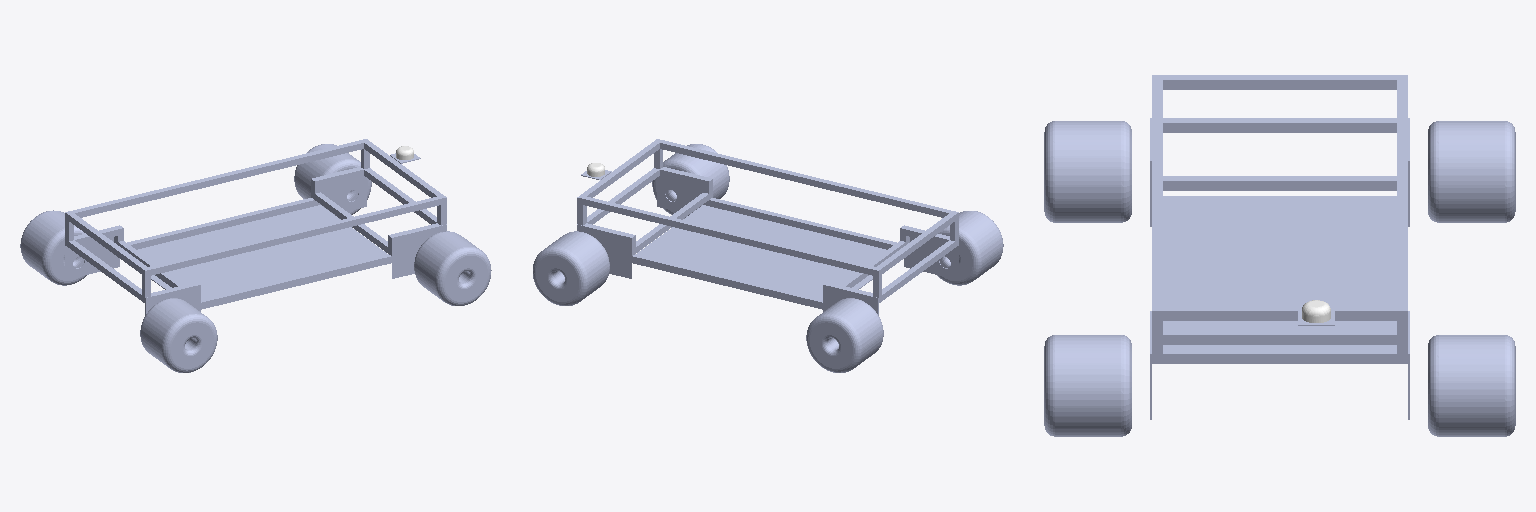
robot.urdf — ca:
<?xml version="1.0" encoding="utf-8"?>
<robot
  name="ca">
  <link
    name="base_link">
    <inertial>
      <origin
        xyz="0.0023443 0.00028765 0.10232"
        rpy="0 0 0" />
      <mass
        value="60" />
      <inertia
        ixx="1.1836"
        ixy="-4.6065E-15"
        ixz="-2.9443E-15"
        iyy="3.6753"
        iyz="1.0467E-16"
        izz="4.5993" />
    </inertial>
    <visual>
      <origin
        xyz="0 0 0"
        rpy="0 0 0" />
      <geometry>
        <mesh
          filename="package://ca/meshes/base_link.STL" />
      </geometry>
      <material
        name="">
        <color
          rgba="0.79216 0.81961 0.93333 1" />
      </material>
    </visual>
    <collision>
      <origin
        xyz="0 0 0"
        rpy="0 0 0" />
      <geometry>
        <mesh
          filename="package://ca/meshes/base_link.STL" />
      </geometry>
    </collision>
  </link>
  <link
    name="wheel1">
    <inertial>
      <origin
        xyz="0 0.12 0"
        rpy="0 0 0" />
      <mass
        value="5" />
      <inertia
        ixx="0.13237"
        ixy="1.7347E-18"
        ixz="-1.9437E-36"
        iyy="0.13869"
        iyz="2.808E-34"
        izz="0.13237" />
    </inertial>
    <visual>
      <origin
        xyz="0 0 0"
        rpy="0 0 0" />
      <geometry>
        <mesh
          filename="package://ca/meshes/wheel1.STL" />
      </geometry>
      <material
        name="">
        <color
          rgba="0.79216 0.81961 0.93333 1" />
      </material>
    </visual>
    <collision>
      <origin
        xyz="0 0 0"
        rpy="0 0 0" />
      <geometry>
        <mesh
          filename="package://ca/meshes/wheel1.STL" />
      </geometry>
    </collision>
  </link>
  <joint
    name="wheel1j"
    type="continuous">
    <origin
      xyz="0.695 0.4065 -0.006"
      rpy="0 0 0" />
    <parent
      link="base_link" />
    <child
      link="wheel1" />
    <axis
      xyz="0 -1 0" />
  </joint>
  <link
    name="wheel2">
    <inertial>
      <origin
        xyz="0 -0.12 0"
        rpy="0 0 0" />
      <mass
        value="5" />
      <inertia
        ixx="0.13237"
        ixy="3.4868E-18"
        ixz="-9.1067E-19"
        iyy="0.13869"
        iyz="4.9054E-19"
        izz="0.13237" />
    </inertial>
    <visual>
      <origin
        xyz="0 0 0"
        rpy="0 0 0" />
      <geometry>
        <mesh
          filename="package://ca/meshes/wheel2.STL" />
      </geometry>
      <material
        name="">
        <color
          rgba="0.79216 0.81961 0.93333 1" />
      </material>
    </visual>
    <collision>
      <origin
        xyz="0 0 0"
        rpy="0 0 0" />
      <geometry>
        <mesh
          filename="package://ca/meshes/wheel2.STL" />
      </geometry>
    </collision>
  </link>
  <joint
    name="wheel2j"
    type="continuous">
    <origin
      xyz="0.695 -0.4065 -0.006"
      rpy="0 0 0" />
    <parent
      link="base_link" />
    <child
      link="wheel2" />
    <axis
      xyz="0 -1 0" />
  </joint>
  <link
    name="wheel3">
    <inertial>
      <origin
        xyz="0 0.12 0"
        rpy="0 0 0" />
      <mass
        value="5" />
      <inertia
        ixx="0.13237"
        ixy="1.7347E-18"
        ixz="-1.9437E-36"
        iyy="0.13869"
        iyz="2.808E-34"
        izz="0.13237" />
    </inertial>
    <visual>
      <origin
        xyz="0 0 0"
        rpy="0 0 0" />
      <geometry>
        <mesh
          filename="package://ca/meshes/wheel3.STL" />
      </geometry>
      <material
        name="">
        <color
          rgba="0.79216 0.81961 0.93333 1" />
      </material>
    </visual>
    <collision>
      <origin
        xyz="0 0 0"
        rpy="0 0 0" />
      <geometry>
        <mesh
          filename="package://ca/meshes/wheel3.STL" />
      </geometry>
    </collision>
  </link>
  <joint
    name="wheel3j"
    type="continuous">
    <origin
      xyz="-0.695 0.4065 -0.006"
      rpy="0 0 0" />
    <parent
      link="base_link" />
    <child
      link="wheel3" />
    <axis
      xyz="0 -1 0" />
  </joint>
  <link
    name="wheel4">
    <inertial>
      <origin
        xyz="0 -0.12 0"
        rpy="0 0 0" />
      <mass
        value="5" />
      <inertia
        ixx="0.13237"
        ixy="4.0407E-18"
        ixz="4.666E-20"
        iyy="0.13869"
        iyz="3.1414E-20"
        izz="0.13237" />
    </inertial>
    <visual>
      <origin
        xyz="0 0 0"
        rpy="0 0 0" />
      <geometry>
        <mesh
          filename="package://ca/meshes/wheel4.STL" />
      </geometry>
      <material
        name="">
        <color
          rgba="0.79216 0.81961 0.93333 1" />
      </material>
    </visual>
    <collision>
      <origin
        xyz="0 0 0"
        rpy="0 0 0" />
      <geometry>
        <mesh
          filename="package://ca/meshes/wheel4.STL" />
      </geometry>
    </collision>
  </link>
  <joint
    name="wheel4j"
    type="continuous">
    <origin
      xyz="-0.695 -0.4065 -0.006"
      rpy="0 0 0" />
    <parent
      link="base_link" />
    <child
      link="wheel4" />
    <axis
      xyz="0 -1 0" />
  </joint>
  <link
    name="lidar">
    <inertial>
      <origin
        xyz="0 0 0"
        rpy="0 0 0" />
      <mass
        value="0" />
      <inertia
        ixx="0"
        ixy="0"
        ixz="0"
        iyy="0"
        iyz="0"
        izz="0" />
    </inertial>
    <visual>
      <origin
        xyz="0 0 0"
        rpy="0 0 0" />
      <geometry>
        <mesh
          filename="package://ca/meshes/lidar.STL" />
      </geometry>
      <material
        name="">
        <color
          rgba="1 1 1 1" />
      </material>
    </visual>
    <collision>
      <origin
        xyz="0 0 0"
        rpy="0 0 0" />
      <geometry>
        <mesh
          filename="package://ca/meshes/lidar.STL" />
      </geometry>
    </collision>
  </link>
  <joint
    name="lidarj"
    type="fixed">
    <origin
      xyz="0.815 0.1 0.258"
      rpy="0 0 1.5708" />
    <parent
      link="base_link" />
    <child
      link="lidar" />
    <axis
      xyz="0 0 0" />
  </joint>
 <!-- hokuyo -->
  <gazebo reference="lidar">
    <sensor type="ray" name="head_hokuyo_sensor">
      <pose>0 0 0 0 0 0</pose>
      <visualize>true</visualize>
      <update_rate>40</update_rate>
      <ray>
        <scan>
          <horizontal>
            <samples>720</samples>
            <resolution>1</resolution>
            <min_angle>-2.5</min_angle>
            <max_angle>0.35</max_angle>
          </horizontal>
        </scan>
        <range>
          <min>0.10</min>
          <max>30.0</max>
          <resolution>0.01</resolution>
        </range>
        <noise>
          <type>gaussian</type>
          <!-- Noise parameters based on published spec for Hokuyo laser
               achieving "+-30mm" accuracy at range < 10m.  A mean of 0.0m and
               stddev of 0.01m will put 99.7% of samples within 0.03m of the true
               reading. -->
          <mean>0.0</mean>
          <stddev>0.01</stddev>
        </noise>
      </ray>
      <plugin name="gazebo_ros_head_hokuyo_controller" filename="libgazebo_ros_laser.so">
        <topicName>/scan</topicName>
        <frameName>lidar</frameName>
      </plugin>
    </sensor>
  </gazebo>

<gazebo>
  <plugin name="skid_steer_drive_controller" filename="libgazebo_ros_skid_steer_drive.so">
    <updateRate>100.0</updateRate>
    <robotNamespace>/</robotNamespace>
    <leftFrontJoint>wheel1j</leftFrontJoint>
    <rightFrontJoint>wheel2j</rightFrontJoint>
    <leftRearJoint>wheel3j</leftRearJoint>
    <rightRearJoint>wheel4j</rightRearJoint>
    <wheelSeparation>0.813</wheelSeparation>
    <wheelDiameter>0.280</wheelDiameter>
    <robotBaseFrame>base_link</robotBaseFrame>
    <odometryTopic>odom</odometryTopic>
    <odometryFrame>odom</odometryFrame>
    <torque>20</torque>
    <topicName>cmd_vel</topicName>
    <broadcastTF>true</broadcastTF>
    <publishTF>true</publishTF>
  </plugin>
</gazebo>
</robot>

--- Facts derived from the render (not from the file) ---
The picture shows the robot from 3 angles, left to right: view 1: azimuth 30°, elevation 25°; view 2: azimuth 150°, elevation 25°; view 3: azimuth 270°, elevation 25°; orthographic projection.
Model ca with 6 links and 5 joints (4 continuous, 1 fixed), rooted at base_link, posed every joint at zero.
Visible links, largest first — view 1: base_link, wheel4, wheel2, wheel3, wheel1; view 2: base_link, wheel3, wheel1, wheel4, wheel2; view 3: base_link, wheel4, wheel1, wheel3, wheel2, lidar.
Boxes of the visible links, left/top/right/bottom form: base_link: left=65, top=139, right=446, bottom=315; wheel4: left=140, top=298, right=217, bottom=372; wheel2: left=414, top=231, right=491, bottom=305; wheel3: left=20, top=210, right=86, bottom=285; wheel1: left=294, top=144, right=371, bottom=218; base_link: left=577, top=139, right=958, bottom=315; wheel3: left=806, top=298, right=883, bottom=372; wheel1: left=533, top=231, right=609, bottom=305; wheel4: left=937, top=211, right=1003, bottom=285; wheel2: left=652, top=144, right=729, bottom=218; base_link: left=1150, top=75, right=1409, bottom=419; wheel4: left=1044, top=121, right=1131, bottom=222; wheel1: left=1428, top=335, right=1515, bottom=436; wheel3: left=1428, top=121, right=1515, bottom=222; wheel2: left=1044, top=335, right=1131, bottom=436; lidar: left=1302, top=300, right=1330, bottom=322.
Size in the robot's own frame: 1.7 by 1.29 by 0.444 metres.
Meshes: 6 distinct files referenced, 6 mesh visuals loaded (6 binary STL).
